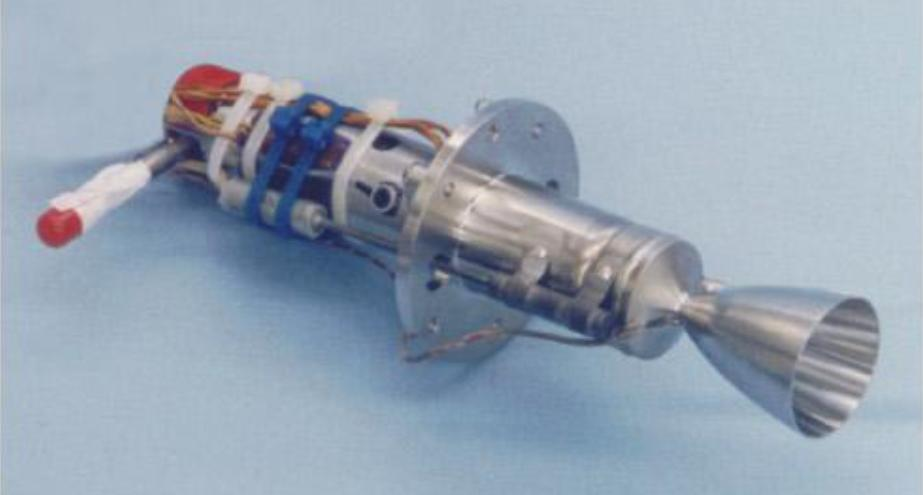thruster: (684, 283, 884, 441)
